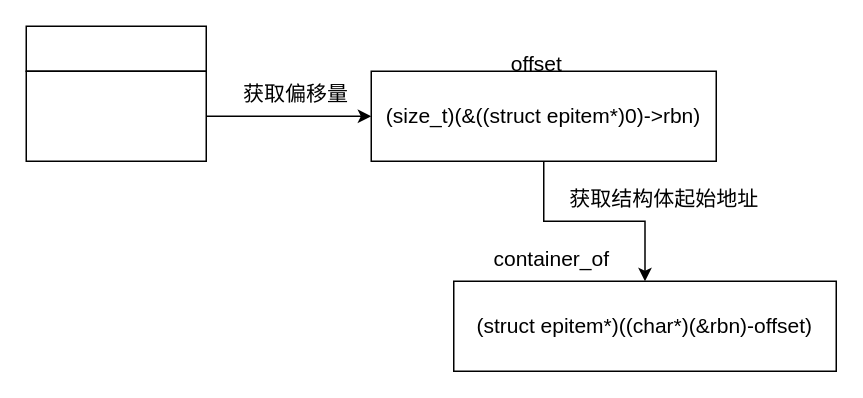
The diagram is 863 pixels wide and 398 high, and some of its shapes have lost their labels. The centre of each missing label's shape, as x and y in pixels:
"struct epitem" goes at [115,48].
"struct rb_node* rbn" goes at [115,115].
